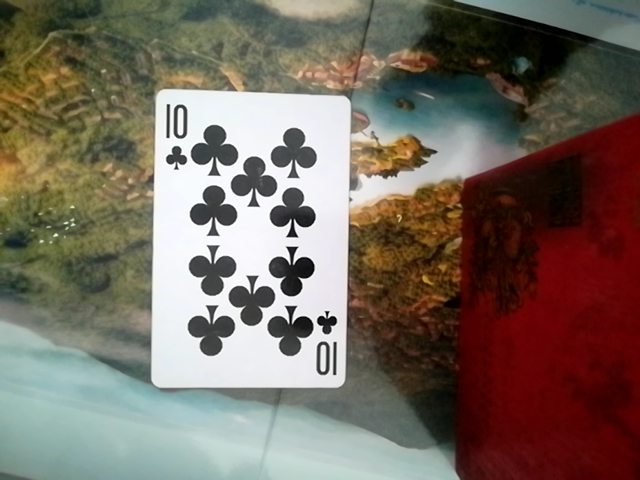mh 10: (147, 88, 344, 398)
